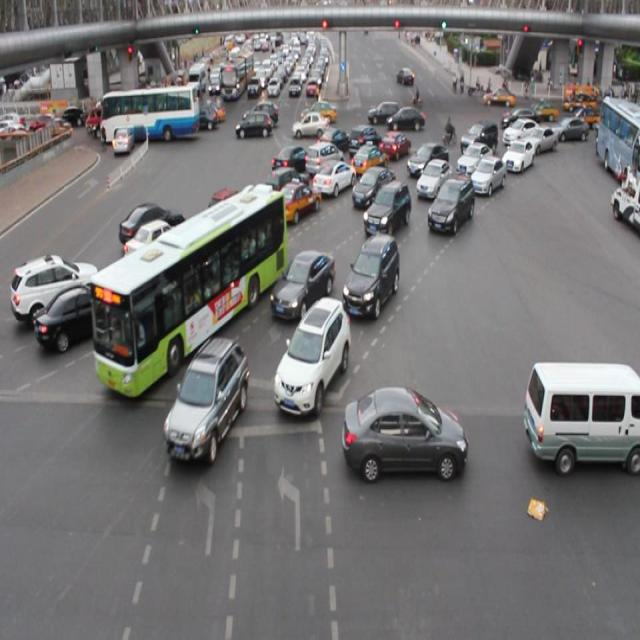car: (342, 386, 464, 480), (163, 338, 245, 457), (274, 298, 348, 414), (35, 285, 124, 347), (12, 255, 100, 315), (272, 248, 333, 320), (344, 234, 398, 314), (140, 257, 210, 308), (206, 214, 271, 268), (124, 221, 188, 273), (201, 189, 259, 245), (120, 202, 186, 245), (363, 181, 410, 235), (427, 177, 472, 232), (270, 183, 319, 225), (351, 167, 395, 209), (406, 141, 447, 180), (312, 161, 355, 197), (265, 168, 308, 204), (455, 142, 492, 180), (416, 159, 452, 198), (272, 145, 312, 180), (469, 155, 503, 196), (349, 141, 387, 177), (459, 123, 497, 156), (514, 126, 555, 152), (502, 139, 532, 174), (502, 118, 540, 145), (348, 124, 380, 156), (317, 127, 349, 156), (378, 129, 409, 158)
truck: (524, 358, 640, 468), (305, 142, 344, 179)
van: (92, 188, 284, 397)
